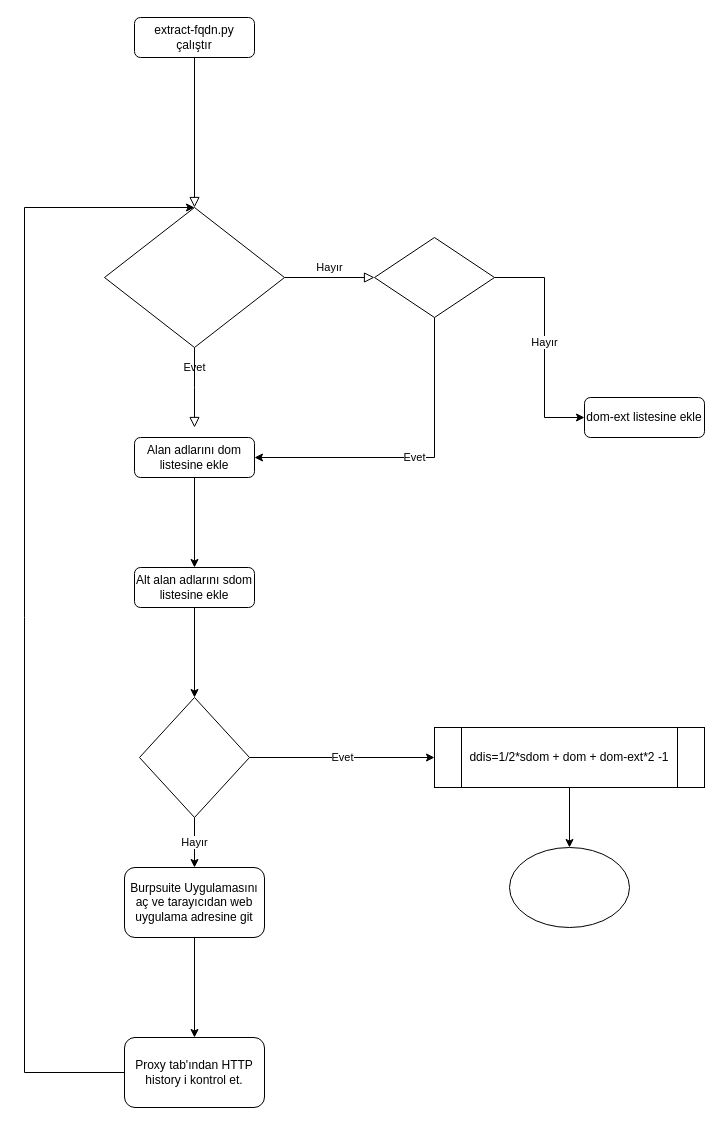
Image size: 722x1125. Some labels were removed from this diagram. The centre of each missing label's shape, as x and y in pixels:
Burpsuite'ten kontrollerini yaptın mı?: the point at 194,757
dom-ext listesinde var mı?: the point at 434,277
Listelenen FQDN'ler arasında şirkete ait olmayan FQDN'ler var mı?: the point at 194,277
Çalışmayı bitir: the point at 569,887
